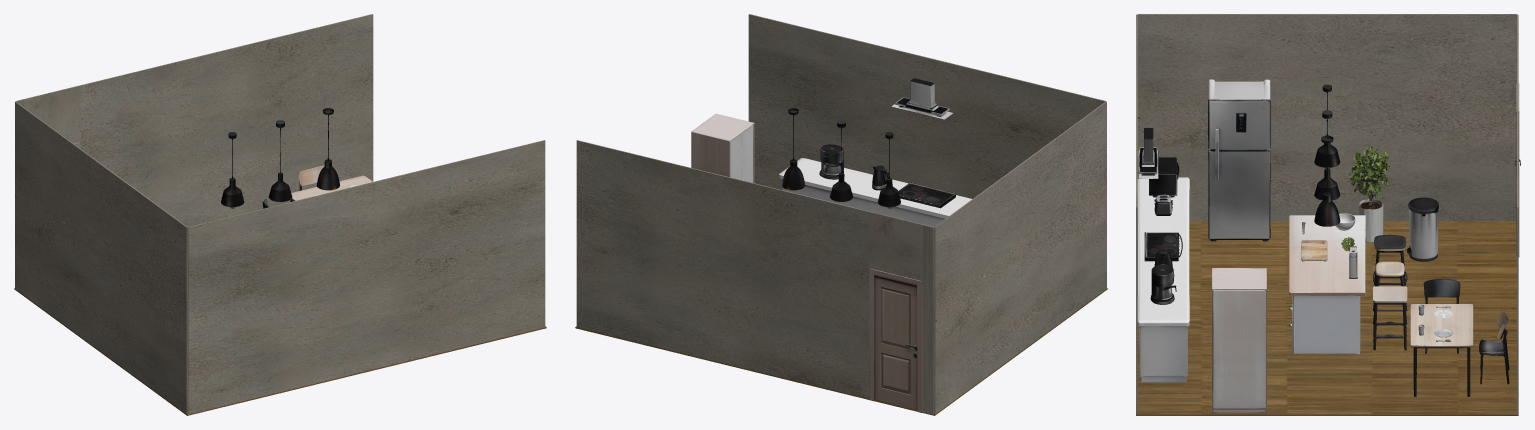
Rendered from text-detailed-kitchen.glb.
3 views of the same model, side by side, from view 1: azimuth 30°, elevation 25°; view 2: azimuth 150°, elevation 25°; view 3: azimuth 270°, elevation 25° (orthographic). The views are drawn at different scales.
Visible parts, largest first — view 1: wall_north_01, wall_south_01, wall_east_01, wall_south_02, floor_01, geometry_0.002, geometry_0.012, geometry_0.004, geometry_0.003; view 2: wall_south_01, wall_north_01, wall_east_01, geometry_0, geometry_0.009, geometry_0.011, wall_south_02, wall_south_03, geometry_0.001, floor_01, geometry_0.023, geometry_0.028 (+3 smaller); view 3: wall_east_01, floor_01, geometry_0.010, geometry_0.005, geometry_0.011, geometry_0.009, geometry_0.012, geometry_0.016, geometry_0.015, geometry_0.006, geometry_0.023, geometry_0.025 (+14 smaller).
Part boxes in pixels (x1,y1,x2,y2): wall_north_01: (187,140,545,414); wall_south_01: (80,14,373,226); wall_east_01: (15,101,187,414); wall_south_02: (26,85,80,143); floor_01: (14,288,546,415); geometry_0.002: (316,108,339,190); geometry_0.012: (290,175,372,201); geometry_0.004: (221,132,244,209); geometry_0.003: (268,120,292,201); wall_south_01: (576,140,868,398); wall_north_01: (748,14,1106,198); wall_east_01: (934,101,1106,414); geometry_0: (868,268,922,412); geometry_0.009: (779,158,971,226); geometry_0.011: (691,113,754,182); wall_south_02: (869,211,922,281); wall_south_03: (922,224,934,415); geometry_0.001: (891,78,953,119); floor_01: (575,288,1107,415); geometry_0.023: (898,182,955,208); geometry_0.028: (819,144,844,179); wall_east_01: (1137,14,1516,221); floor_01: (1136,221,1518,415); geometry_0.010: (1208,79,1270,241); geometry_0.005: (1289,215,1365,354); geometry_0.011: (1211,268,1266,413); geometry_0.009: (1137,177,1189,382); geometry_0.012: (1410,304,1473,396); geometry_0.016: (1348,146,1390,242); geometry_0.015: (1407,197,1438,261); geometry_0.006: (1373,286,1407,350); geometry_0.023: (1144,232,1182,261); geometry_0.025: (1149,157,1179,197).
Size of the model in its own units: 6 by 3 by 5.03.
Materials: 41 (41 with a texture image).
